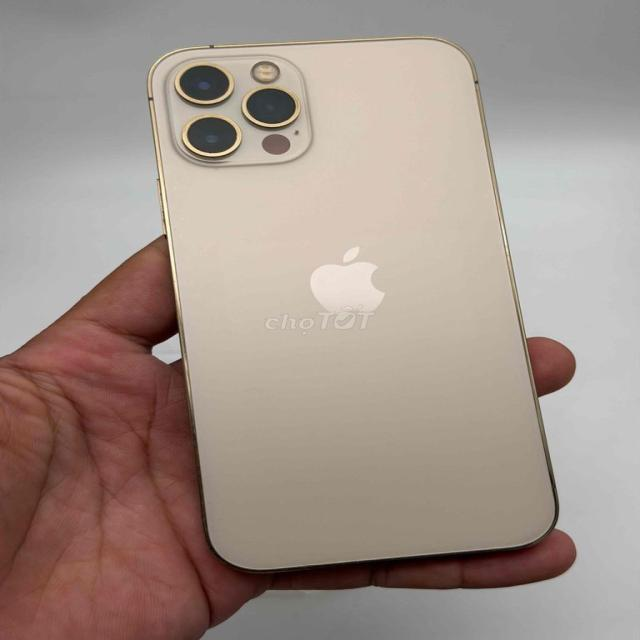gen_12_13: (148, 38, 557, 573)
